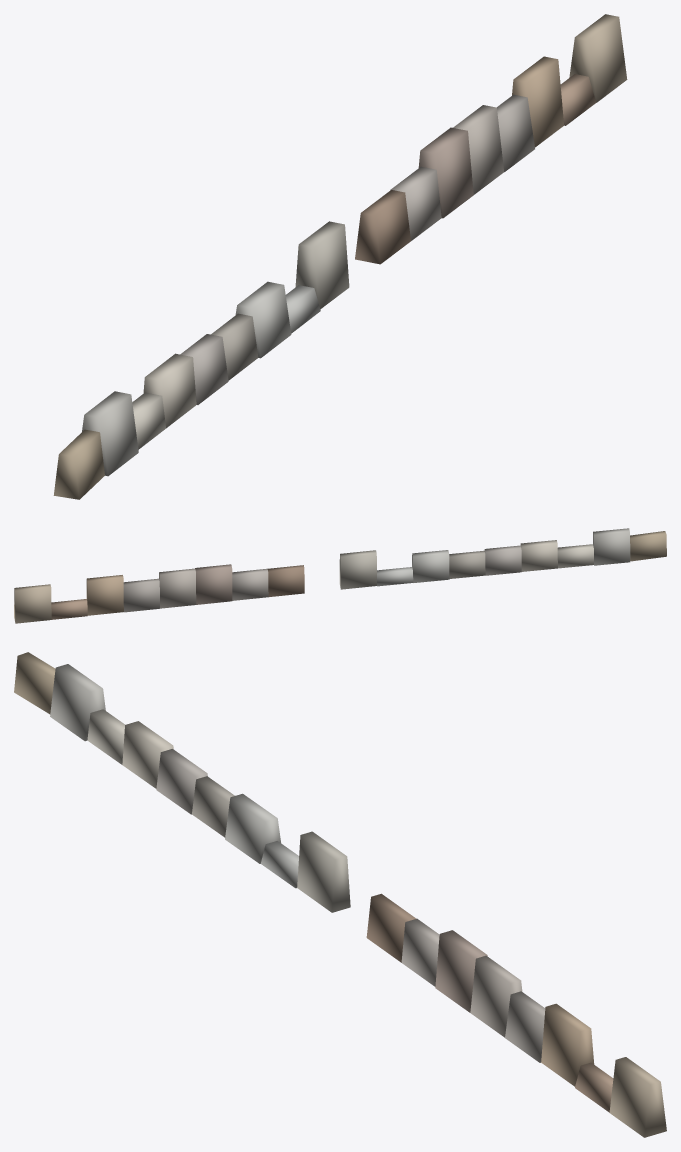
Rendered from farm_26_8_collision.glb.
3 views of the same model, one above another, from view 1: azimuth 30°, elevation 25°; view 2: azimuth 150°, elevation 25°; view 3: azimuth 270°, elevation 25° (orthographic). The views are drawn at different scales.
Parts seen in each view (by area): view 1: geometry_0; view 2: geometry_0; view 3: geometry_0.
Part boxes in pixels (x1,y1,x2,y2): geometry_0: (53,14,627,499); geometry_0: (14,528,666,623); geometry_0: (14,652,666,1137).
Bounding box in the file's own units: 23.14 × 3.15 × 16.65.
